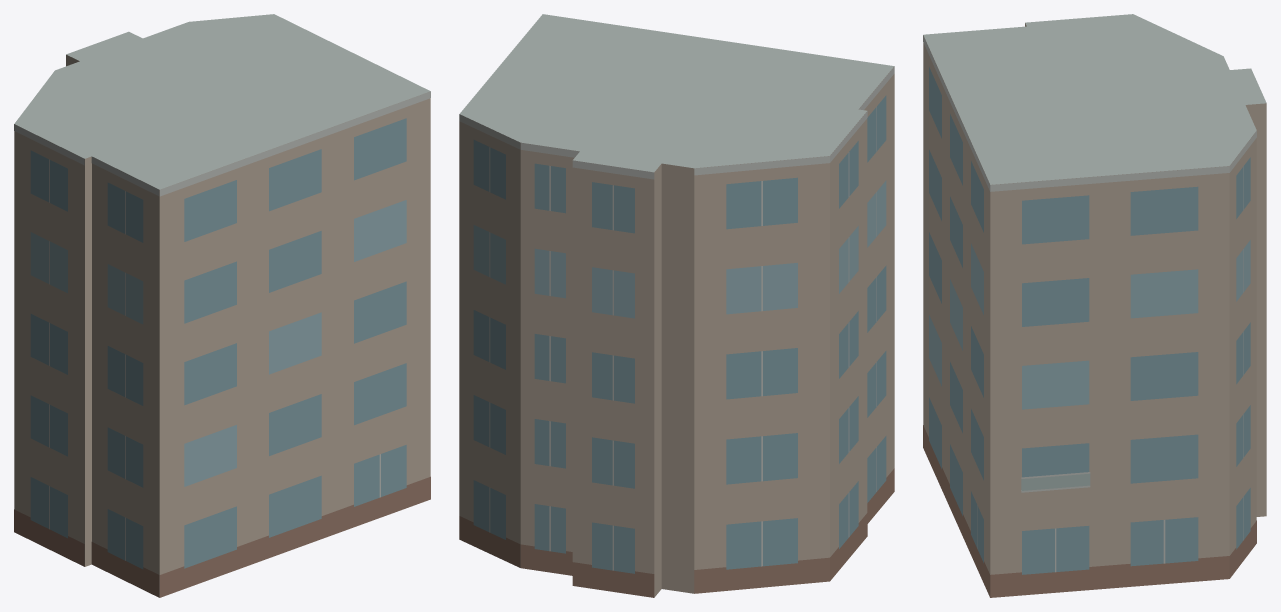
File: survey-upis-32784422.glb
The picture shows the model from 3 angles, left to right: view 1: azimuth 30°, elevation 25°; view 2: azimuth 150°, elevation 25°; view 3: azimuth 270°, elevation 25°; orthographic projection. The views are drawn at different scales.
Visible parts, largest first — view 1: survey-upis-32784422.tmp; view 2: survey-upis-32784422.tmp; view 3: survey-upis-32784422.tmp.
Boxes of the visible parts, x1=… form: survey-upis-32784422.tmp: x1=14, y1=14, x2=430, y2=597; survey-upis-32784422.tmp: x1=459, y1=14, x2=894, y2=597; survey-upis-32784422.tmp: x1=923, y1=14, x2=1266, y2=597.
Size of the model in its own units: 12.83 by 14.45 by 10.91.
